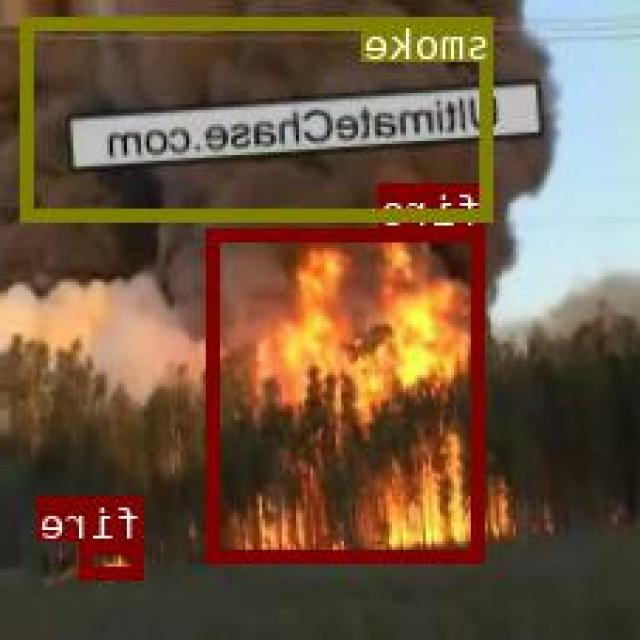fire: (210, 227, 485, 560), (83, 539, 144, 577)
smoke: (25, 16, 495, 218)
